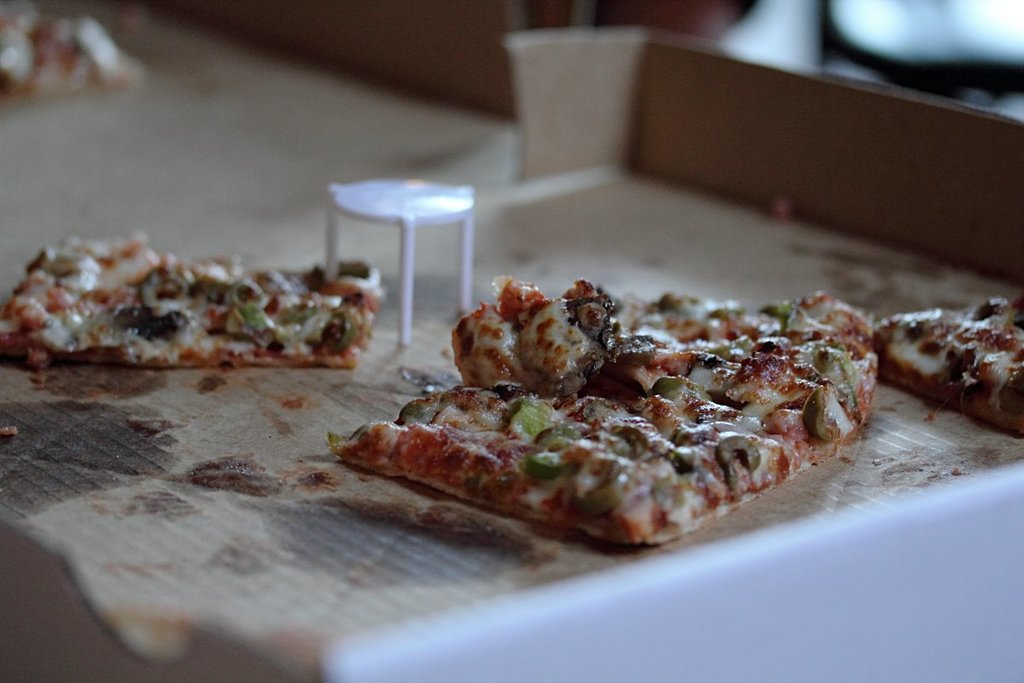Pizza: (314, 286, 888, 558), (0, 233, 384, 357), (866, 286, 1023, 449)
